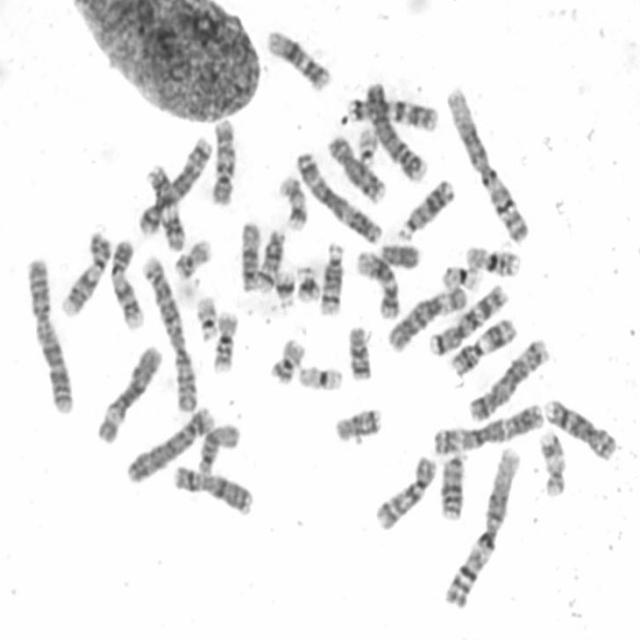A1: (443, 84, 530, 243), (444, 442, 525, 610)
A2: (142, 255, 198, 412), (24, 258, 72, 415)
A3: (295, 151, 383, 245), (434, 400, 544, 456)
B4: (127, 404, 215, 484), (364, 82, 428, 183)
B5: (139, 136, 213, 238), (468, 338, 548, 423)
C10: (374, 453, 443, 534), (210, 118, 236, 208)
C11: (452, 316, 516, 380), (148, 167, 185, 252)
C12: (266, 31, 330, 92), (354, 251, 399, 321)
C6: (98, 344, 163, 446), (388, 286, 468, 356)
C7: (428, 285, 508, 357), (346, 98, 440, 131)
C8: (540, 395, 617, 464), (324, 134, 386, 204)
C9: (61, 230, 112, 318), (110, 238, 146, 331)
D13: (400, 173, 457, 242), (442, 450, 468, 523)
D14: (258, 226, 288, 295), (321, 242, 348, 316)
D15: (198, 423, 242, 474), (238, 221, 260, 295)
E16: (212, 312, 240, 376), (464, 247, 521, 276)
E17: (536, 430, 570, 503), (275, 177, 309, 230)
E18: (334, 406, 385, 444), (345, 324, 376, 386)
F19: (296, 367, 343, 393), (438, 266, 483, 293)
F20: (272, 338, 309, 384), (176, 238, 210, 282)
G21: (297, 260, 322, 306), (273, 272, 297, 315)
G22: (192, 293, 217, 341), (354, 127, 381, 164)
X: (174, 467, 258, 520)
Y: (381, 244, 422, 270)
